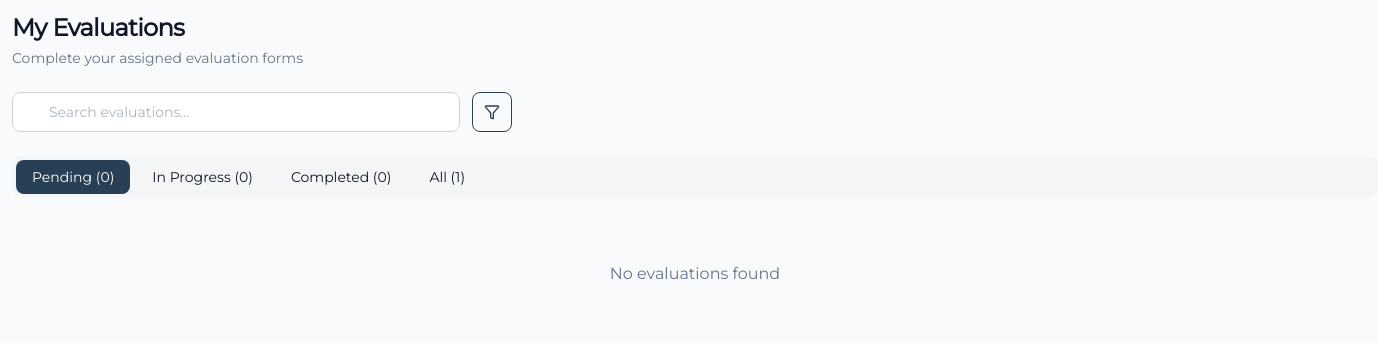
Test: OfficerEvaluations queue and closed forms (#237) › renders Closed badge and disabled Closed button for closed assignments in All tab
The width and height of the screenshot is (1378, 343).
Switch to All tab
Click the tab "All (1)": (447, 177) [413, 160, 481, 194]
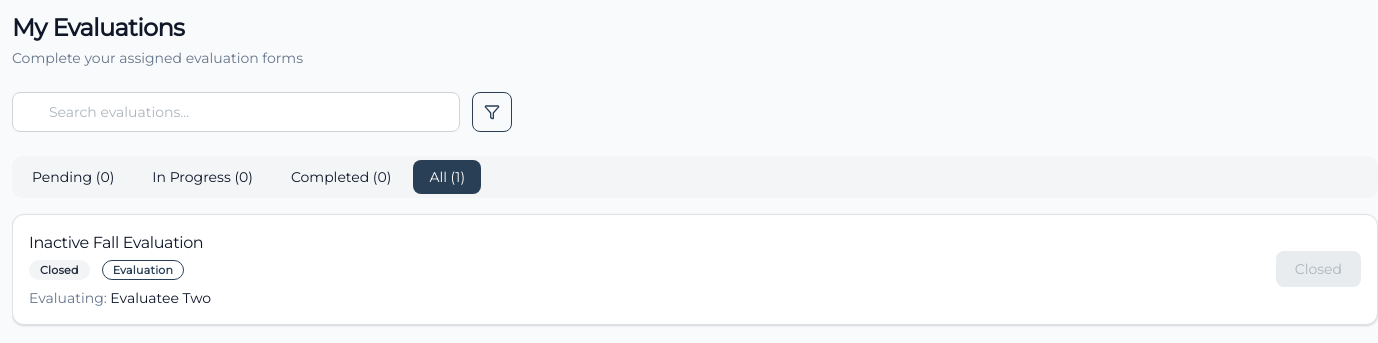
Now the heading "Inactive Fall Evaluation" is shown, box [29, 231, 203, 256]
Now the button "Closed" is disabled, box [1276, 251, 1361, 287]
